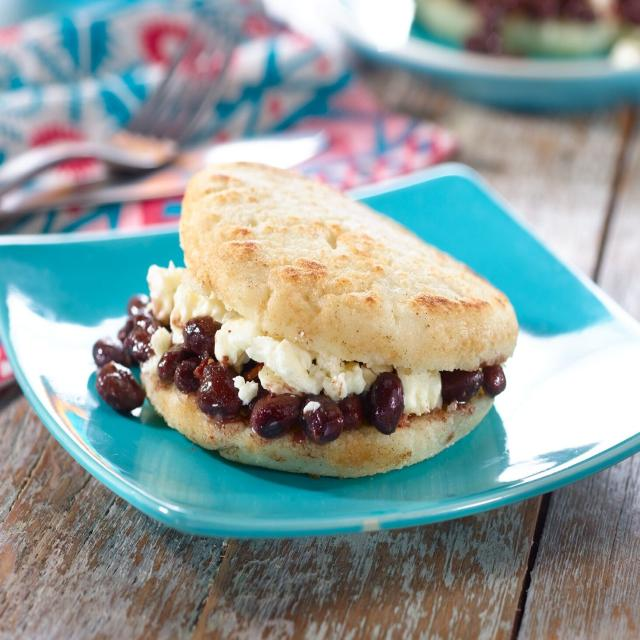arepa: (172, 146, 532, 374)
